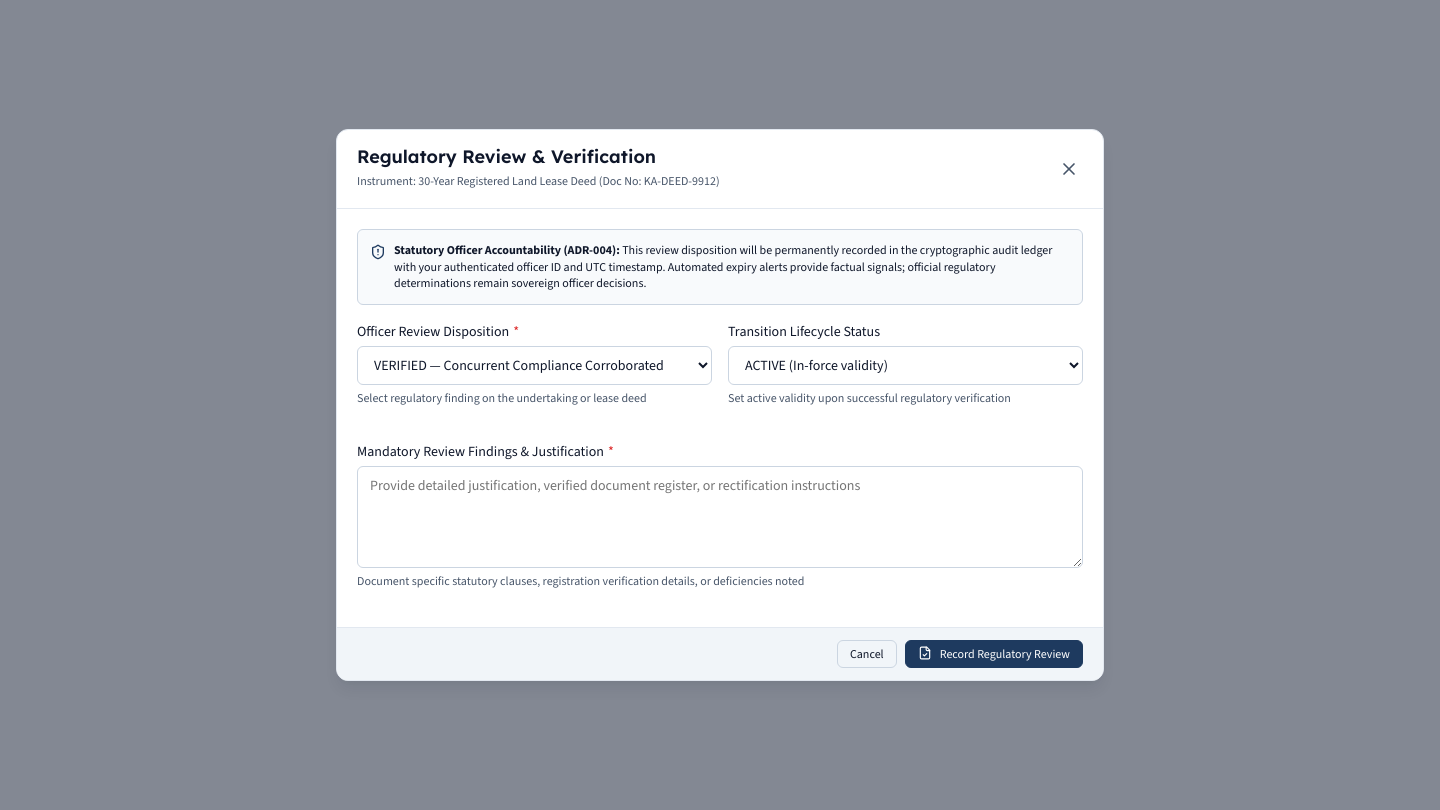
Scenario: Undertakings Components (FE-07) › ReviewUndertakingModal › requires minimum review notes length before submitting review
This screenshot has width=1440, height=810.
Expected: the heading "Regulatory Review & Verification" is shown, x1=357 y1=145 x2=656 y2=168
Note: Attempt submit without notes
Click the button "Record Regulatory Review" at (994, 654), box x1=905 y1=640 x2=1083 y2=668
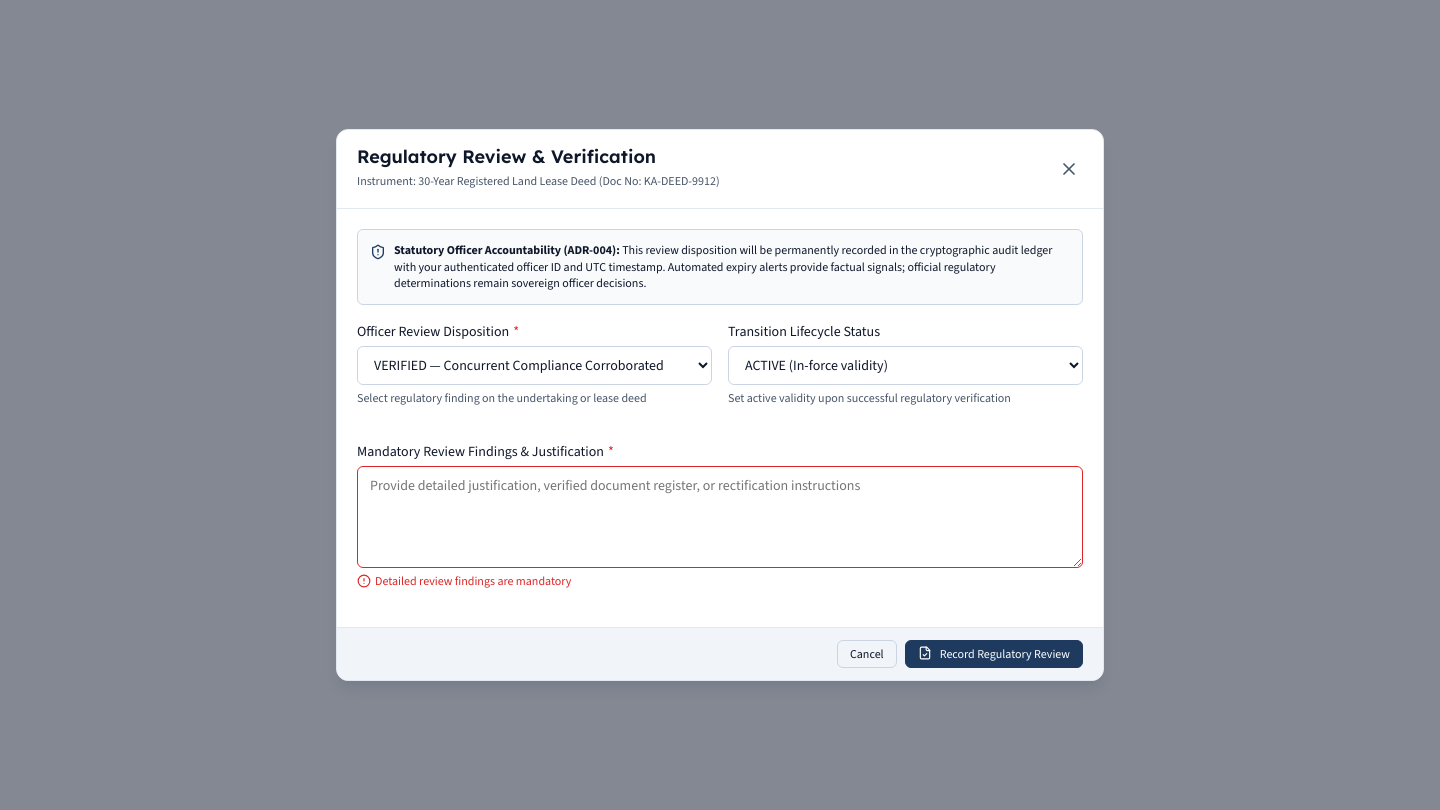
Now the text "Detailed review findings are mandatory" is shown, box x1=375 y1=572 x2=571 y2=591
